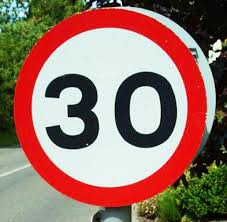Speed_limit_30km: (12, 9, 208, 208)
